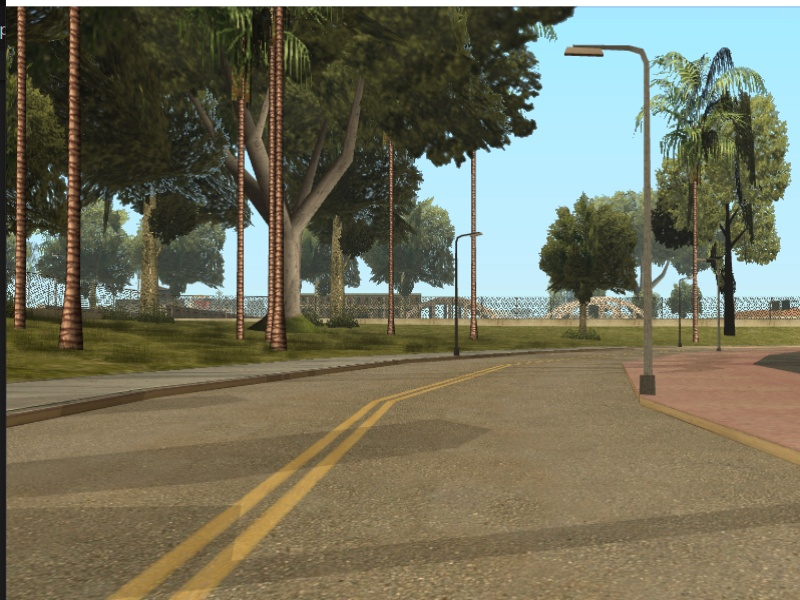pole: (634, 47, 666, 399), (452, 236, 461, 358), (716, 248, 724, 353), (677, 277, 683, 350)
tree: (62, 5, 95, 352), (268, 6, 295, 359), (12, 4, 33, 329), (231, 65, 252, 346), (467, 154, 483, 344), (386, 142, 400, 341), (693, 185, 700, 345), (580, 302, 590, 334)
